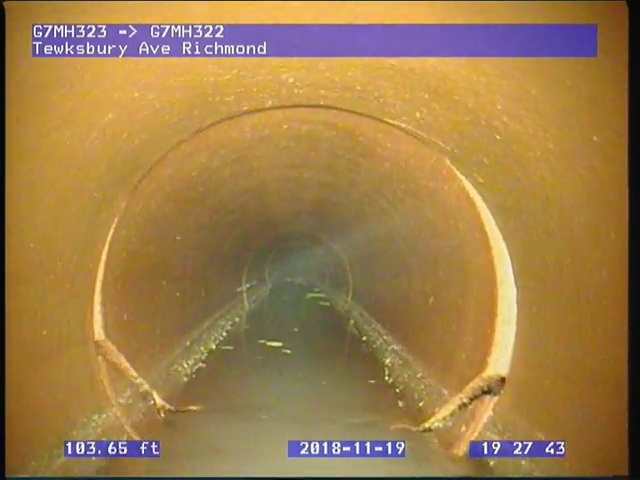crack: (405, 374, 512, 433), (141, 384, 205, 422)
